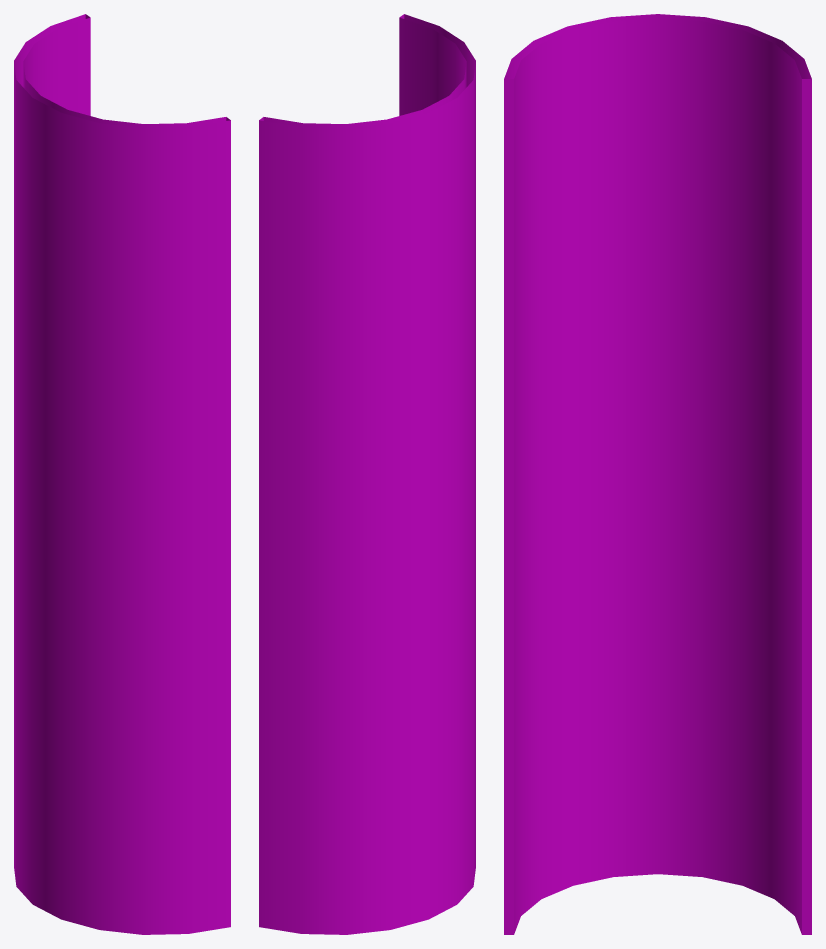
File: closetWall.fbx
3 views of the same model, side by side, from view 1: azimuth 30°, elevation 25°; view 2: azimuth 150°, elevation 25°; view 3: azimuth 270°, elevation 25° (orthographic). The views are drawn at different scales.
Visible parts, largest first — view 1: insideWall; view 2: insideWall; view 3: insideWall.
Boxes of the visible parts, x1,y1,x2,y2 form: insideWall: [14, 14, 230, 934]; insideWall: [259, 14, 475, 934]; insideWall: [504, 14, 811, 934].
Size of the model in its own units: 35.29 by 216 by 70.57.
